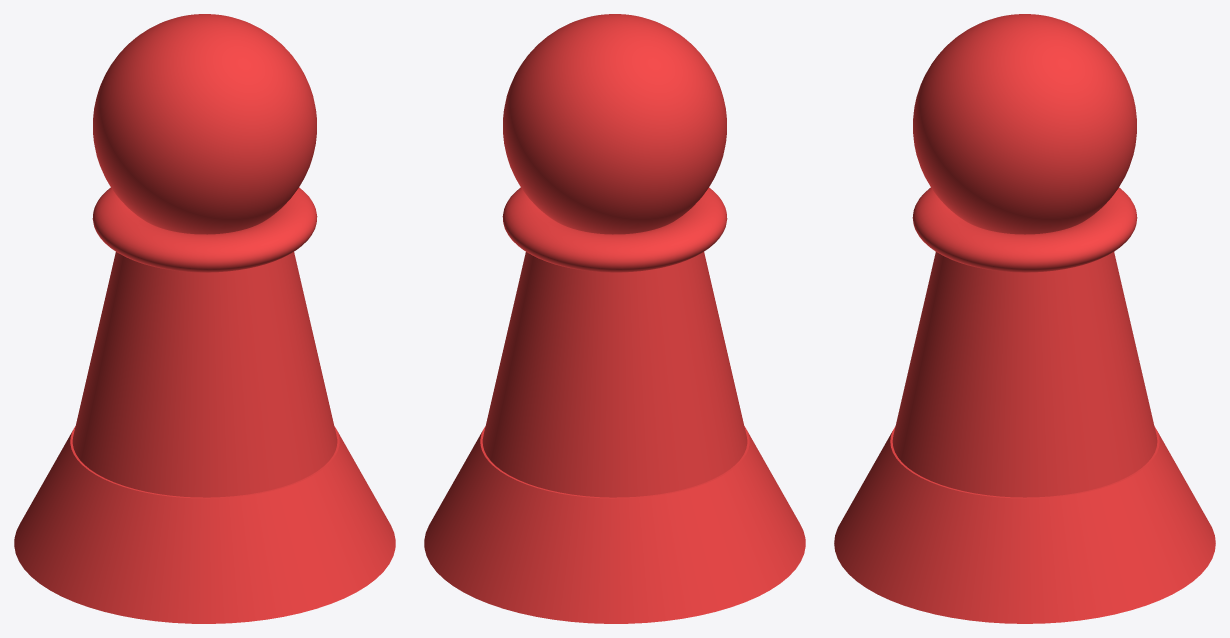
The model's file is quoridor_pawn_red.glb.
The picture shows the model from 3 angles, left to right: view 1: azimuth 30°, elevation 25°; view 2: azimuth 150°, elevation 25°; view 3: azimuth 270°, elevation 25°; orthographic projection.
Visible parts, largest first — view 1: Body, Foot, Head, Collar; view 2: Body, Foot, Head, Collar; view 3: Body, Foot, Head, Collar.
Boxes of the visible parts, x1,y1,x2,y2 form: Body: [72, 252, 337, 497]; Foot: [14, 426, 395, 623]; Head: [93, 14, 316, 234]; Collar: [92, 187, 317, 272]; Body: [482, 252, 747, 497]; Foot: [424, 426, 805, 623]; Head: [503, 14, 726, 234]; Collar: [502, 187, 727, 272]; Body: [892, 252, 1157, 497]; Foot: [834, 426, 1215, 623]; Head: [913, 14, 1136, 234]; Collar: [912, 187, 1137, 272].
Size of the model in its own units: 0.68 by 1.02 by 0.68.
